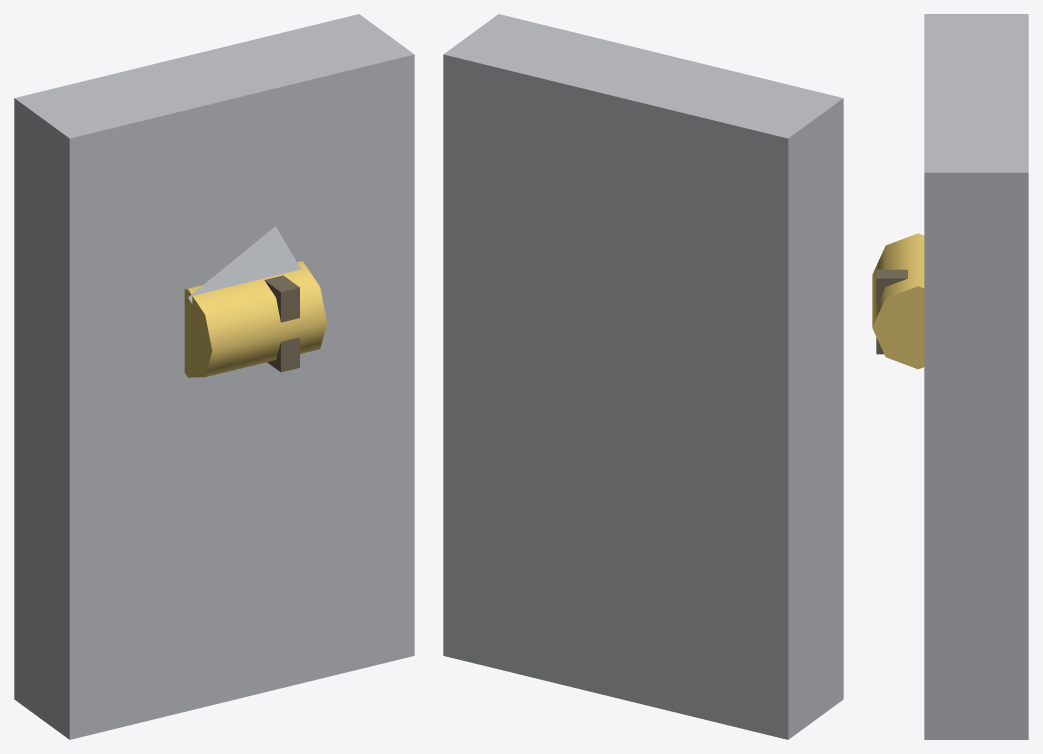
Rendered from wonder-stone-bee.gltf.
3 renders of one model, left to right at view 1: azimuth 30°, elevation 25°; view 2: azimuth 150°, elevation 25°; view 3: azimuth 270°, elevation 25°, orthographic. The views are drawn at different scales.
Parts seen in each view (by area): view 1: Stone, EmblemBody, EmblemWing, EmblemStripe; view 2: Stone; view 3: Stone, EmblemBody, EmblemStripe.
Part boxes in pixels (x1,y1,x2,y2): Stone: (14, 14, 414, 739); EmblemBody: (184, 261, 327, 377); EmblemWing: (188, 226, 300, 303); EmblemStripe: (264, 275, 299, 372); Stone: (443, 14, 843, 739); Stone: (924, 14, 1028, 739); EmblemBody: (872, 233, 924, 369); EmblemStripe: (876, 269, 907, 354).
Bounding box in the file's own units: 0.9 × 1.5 × 0.375.
